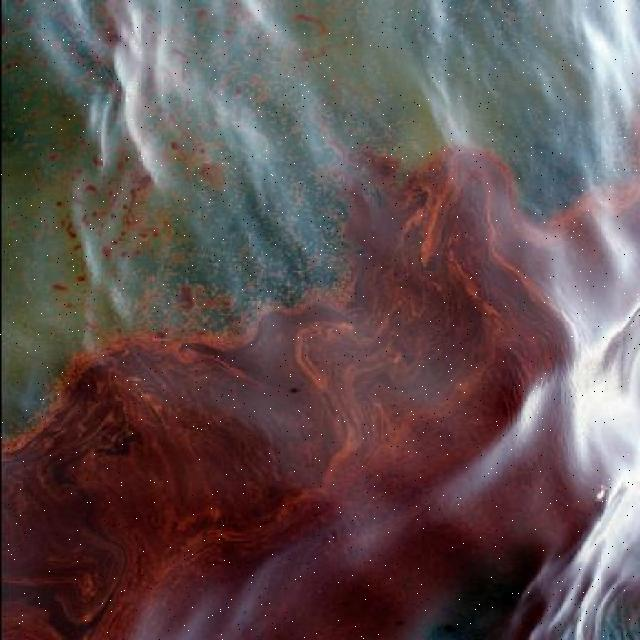oil: (2, 137, 639, 640), (18, 20, 352, 137)
